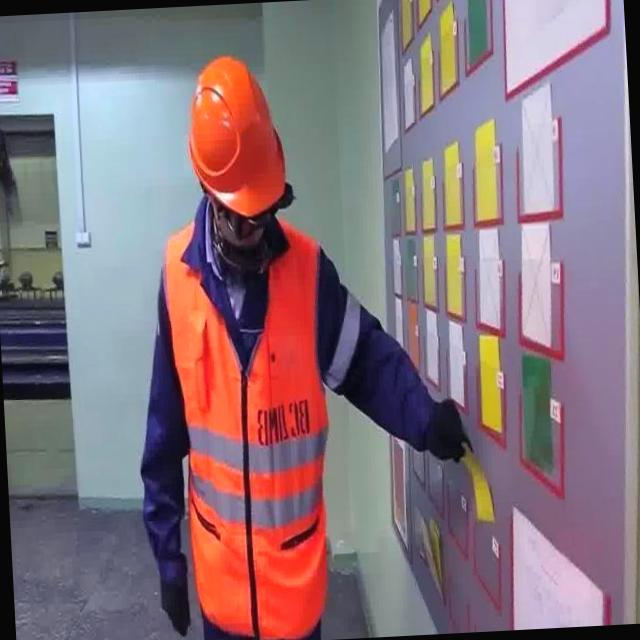vest: (163, 213, 342, 640)
